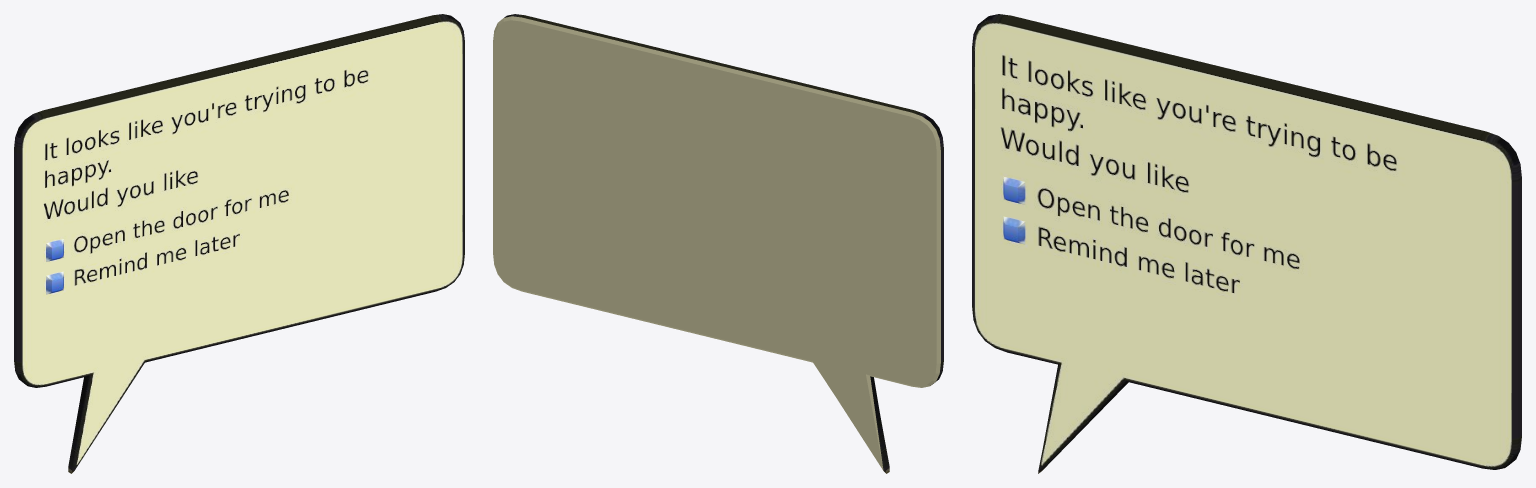
Rendered from clippy-balloon-happy.glb.
3 renders of one model, left to right at view 1: azimuth 30°, elevation 25°; view 2: azimuth 150°, elevation 25°; view 3: azimuth 330°, elevation 25°, orthographic. The views are drawn at different scales.
Parts seen in each view (by area): view 1: balloon; view 2: balloon; view 3: balloon.
Part boxes in pixels (<box>): balloon: <box>14,14,464,473</box>; balloon: <box>493,14,943,473</box>; balloon: <box>972,14,1521,473</box>.
Bounding box in the file's own units: 0.506 × 0.3968 × 0.017.
Materials: 1 (1 with a texture image).
